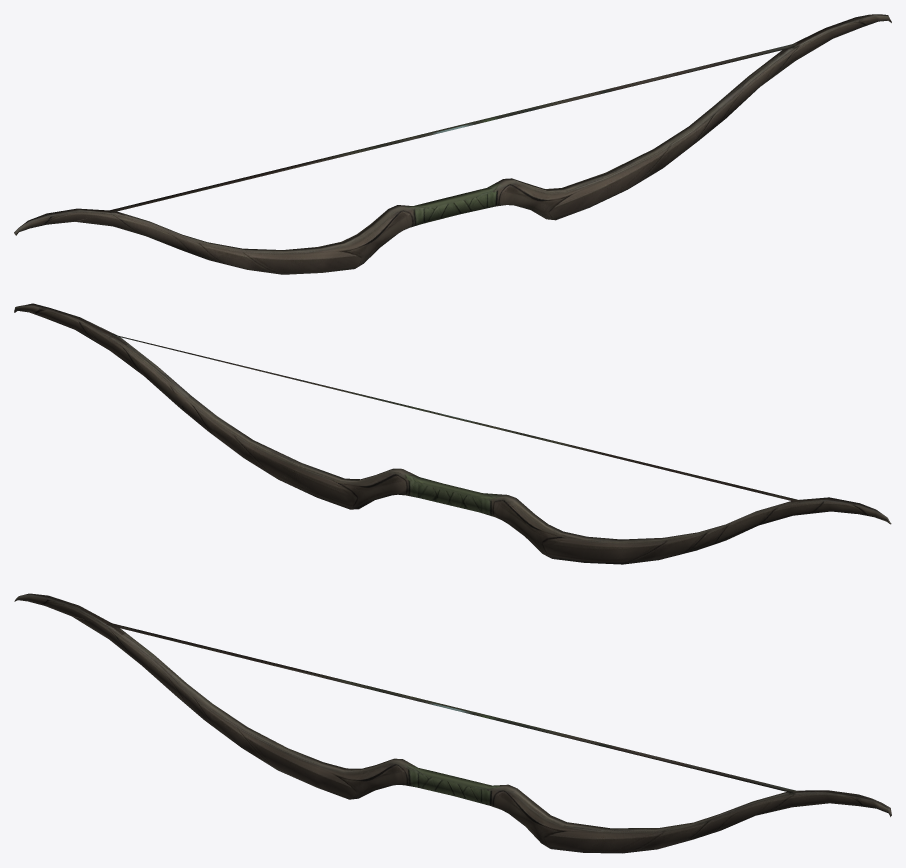
The model's file is elf-bow.glb.
3 renders of one model, top to bottom at view 1: azimuth 30°, elevation 25°; view 2: azimuth 150°, elevation 25°; view 3: azimuth 330°, elevation 25°, orthographic.
Size of the model in its own units: 1 by 0.1392 by 0.0121.
1 material, 1 textured.
